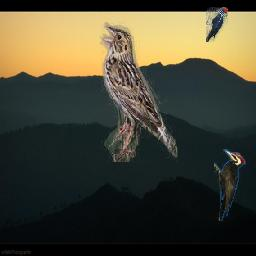Sparrow: (100, 22, 179, 162)
Woodpecker: (214, 149, 246, 221), (206, 8, 228, 43)
